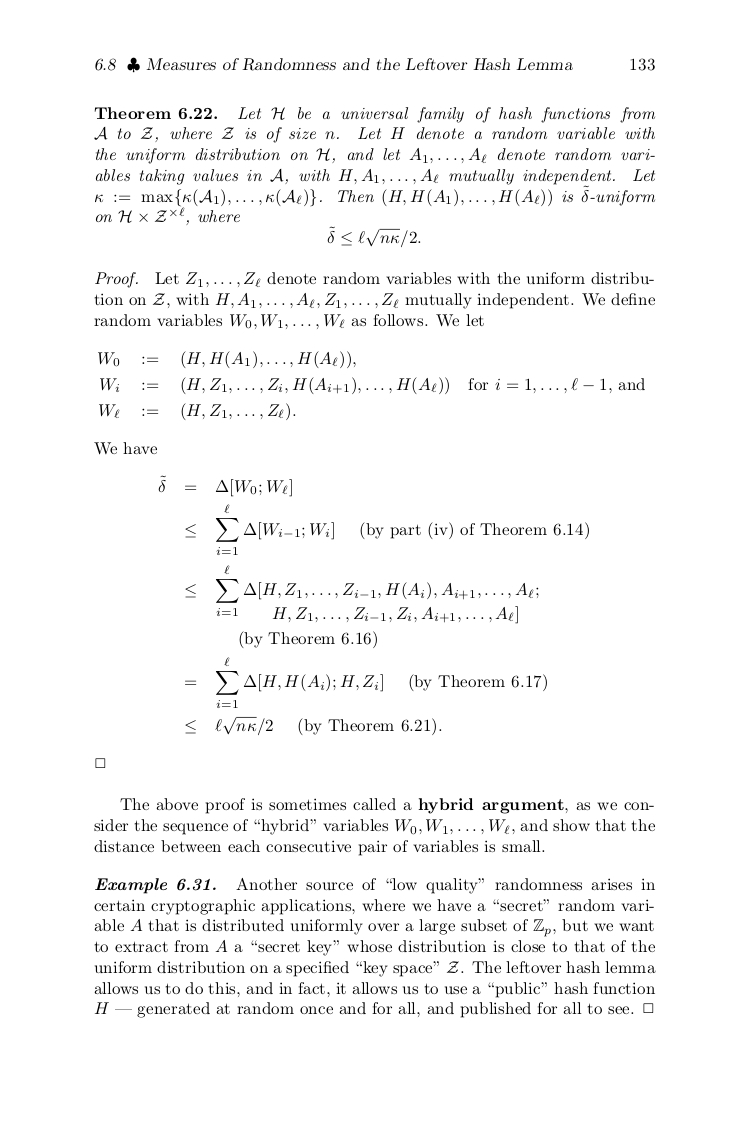formula: (185, 565, 538, 631), (185, 506, 588, 554), (185, 663, 546, 707), (100, 376, 644, 395), (185, 715, 441, 736), (98, 350, 355, 369), (99, 402, 295, 421), (158, 478, 291, 497), (327, 226, 420, 247)
